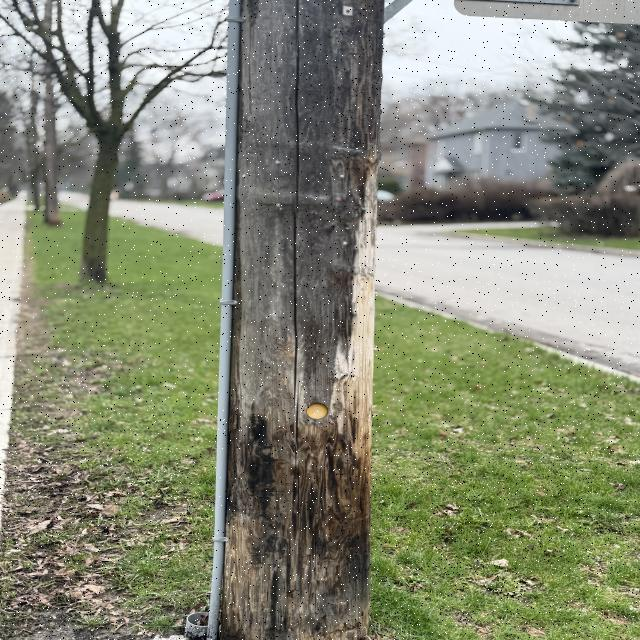Electrical Pole: (205, 2, 394, 638)
